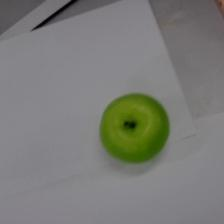green: (99, 92, 170, 163)
